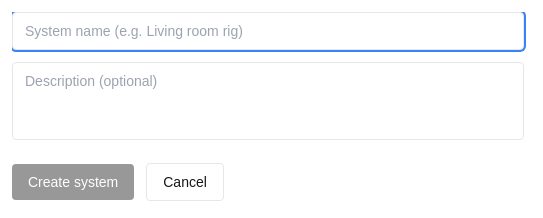
it: CreateSystemForm › Validation › enables "Create system" once a non-empty name is typed
Type "My rig" into the field with placeholder "System name (e.g. Living room rig)" at (268, 31), box [12, 12, 524, 50]
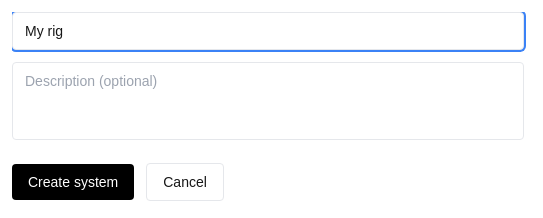
Check: the button "Create system" is enabled, box [12, 164, 134, 200]
